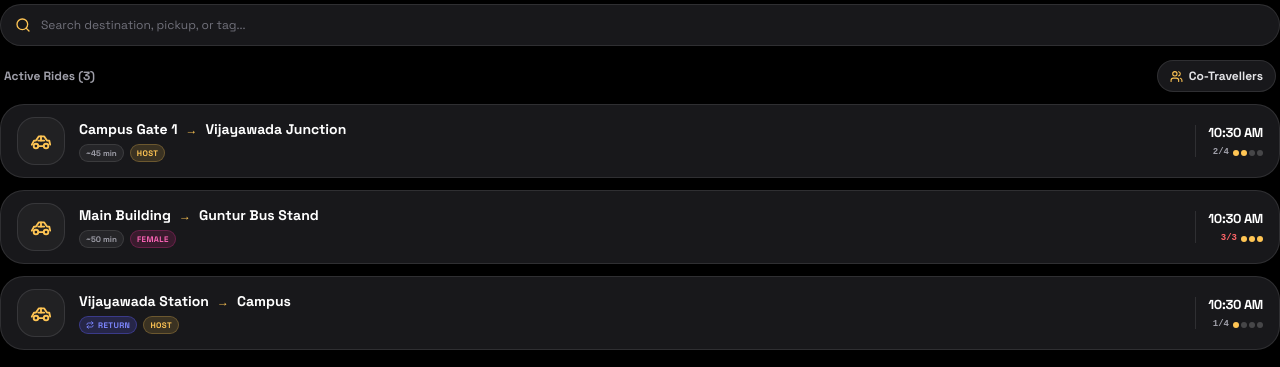
Test: HomeView Component › filters loops dynamically by destination via search input
This screenshot has width=1280, height=367.
Type "Guntur" into the field with placeholder "Search destination, pickup, or tag..." at (653,25), box [41,15,1265,35]
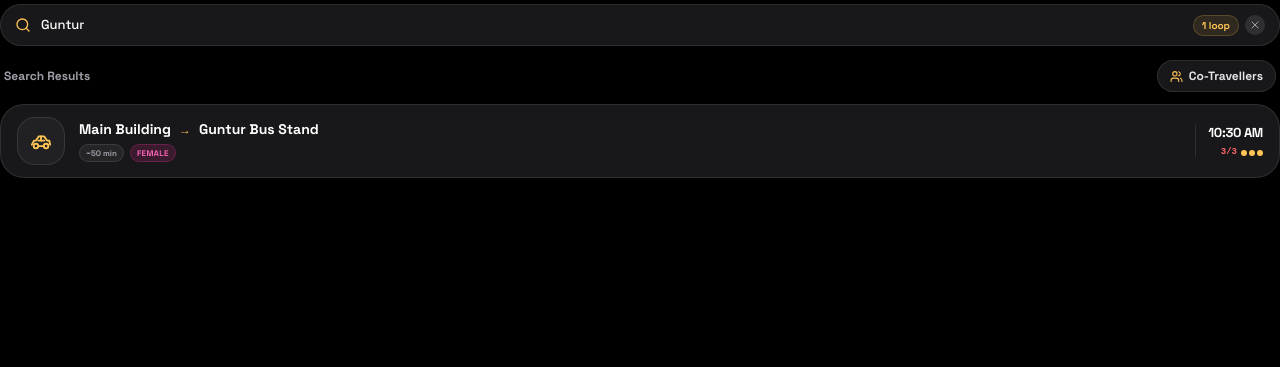
Check: the text "Guntur Bus Stand" is shown, box [199,120,319,140]
Check: the button "Vijayawada Junction" is gone
Click the button named "clear search" at (1255,25), box [1245,15,1265,35]
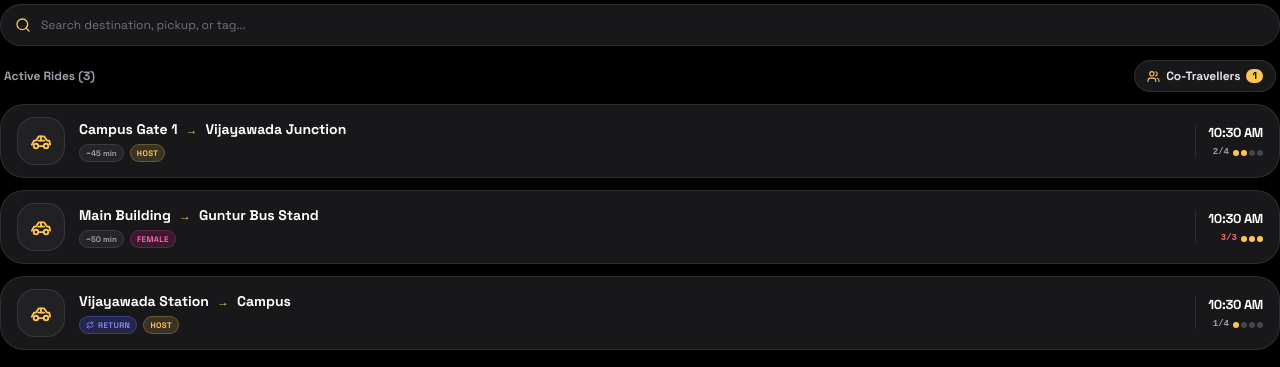
Check: the text "Vijayawada Junction" is shown, box [206,120,346,140]
